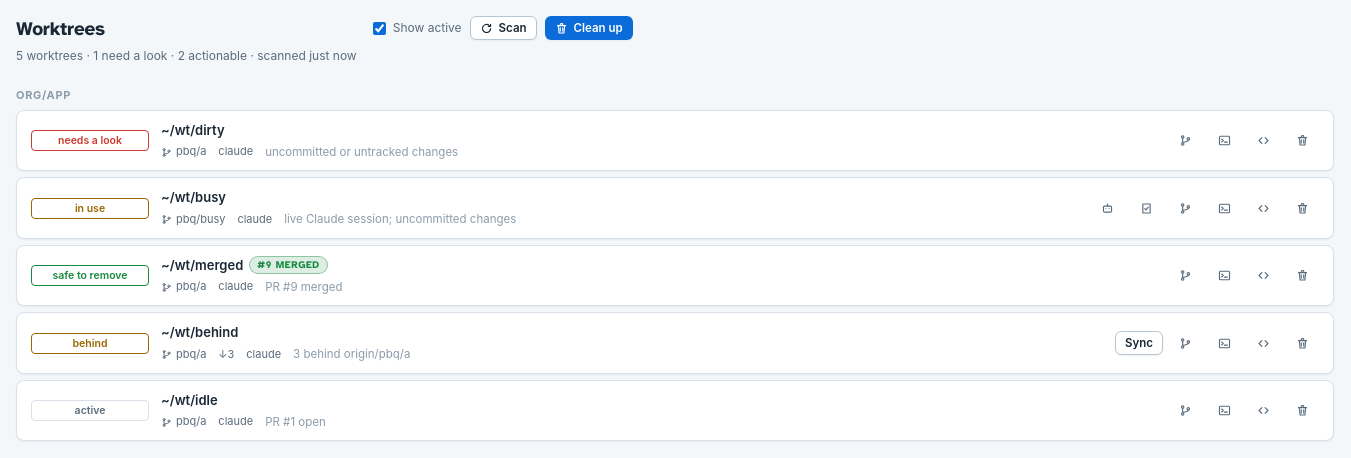
it: WorktreesView › drops a removed worktree without rescanning
Check: the text "~/wt/dirty" is shown, box x1=161 y1=121 x2=224 y2=140
Click the button titled "Remove worktree" in the row of "uncommitted or untracked changes".
click(1302, 141)  # box x1=1286 y1=129 x2=1319 y2=153
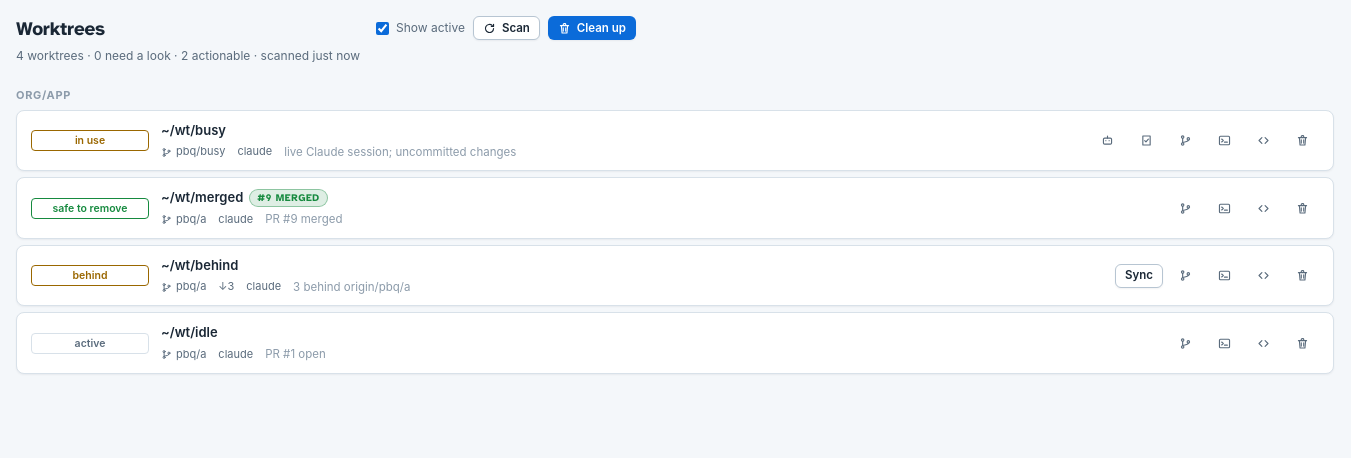
Check: the text "~/wt/dirty" is gone
